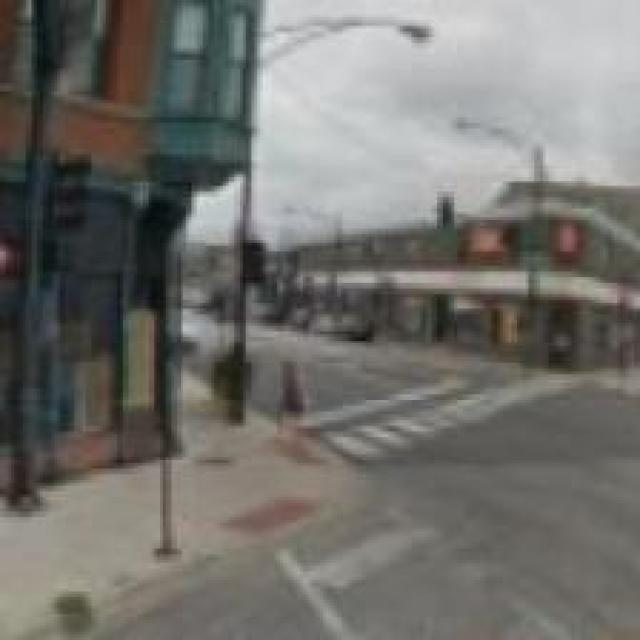walk-crossing: (338, 369, 594, 454), (1, 0, 4, 3), (2, 2, 4, 4), (1, 0, 3, 2), (2, 0, 3, 2)
